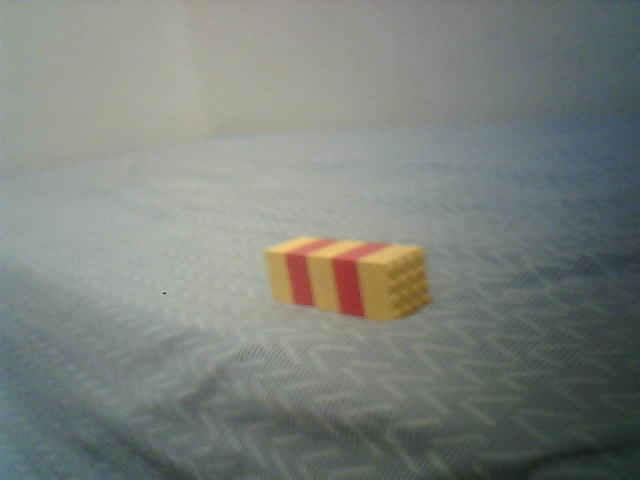lego: (263, 236, 434, 322)
